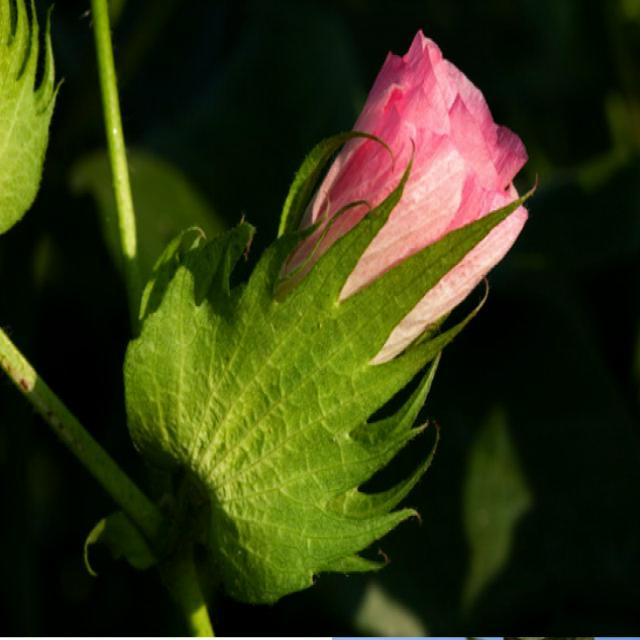Cotton Blossom: (124, 18, 538, 606)
